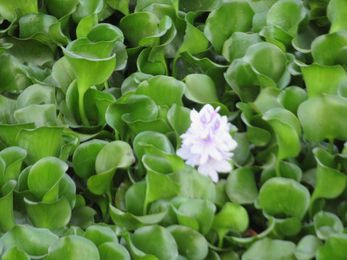water_hyacinth: (0, 0, 347, 111)
